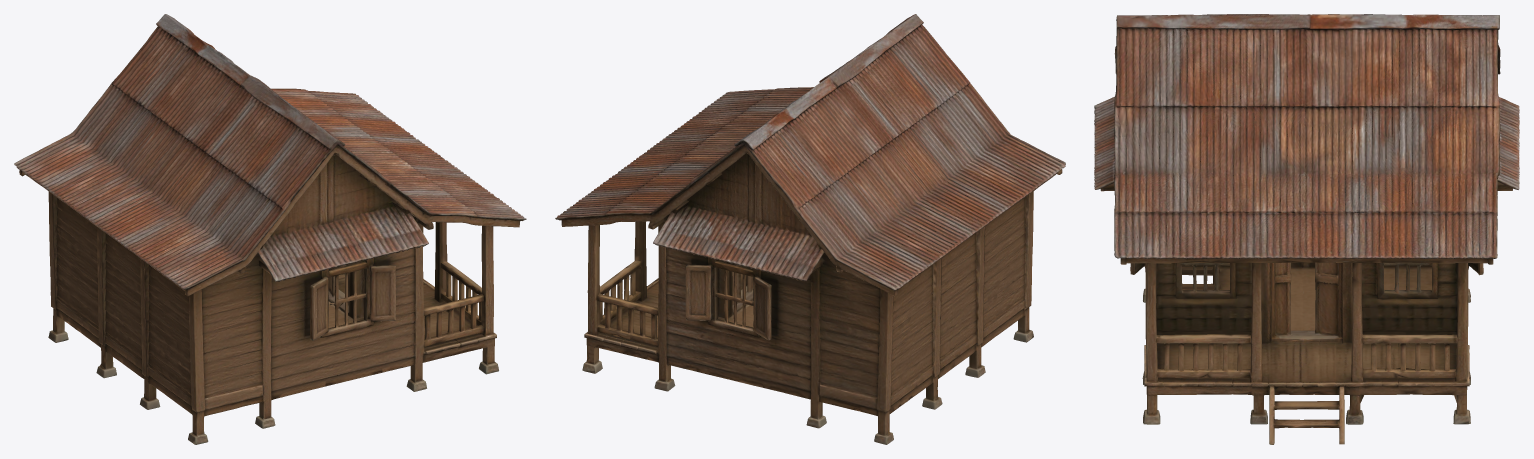
Rendered from old_rusty_roof_house_3d_model_free.glb.
3 renders of one model, left to right at view 1: azimuth 30°, elevation 25°; view 2: azimuth 150°, elevation 25°; view 3: azimuth 270°, elevation 25°, orthographic. The views are drawn at different scales.
Visible parts, largest first — view 1: tripo_node_8aec73a0-bbb3-4331-8a2e-32dcac36dc90_0; view 2: tripo_node_8aec73a0-bbb3-4331-8a2e-32dcac36dc90_0; view 3: tripo_node_8aec73a0-bbb3-4331-8a2e-32dcac36dc90_0.
Part boxes in pixels (x1=…): tripo_node_8aec73a0-bbb3-4331-8a2e-32dcac36dc90_0: x1=14, y1=14, x2=526, y2=444; tripo_node_8aec73a0-bbb3-4331-8a2e-32dcac36dc90_0: x1=555, y1=14, x2=1065, y2=444; tripo_node_8aec73a0-bbb3-4331-8a2e-32dcac36dc90_0: x1=1094, y1=14, x2=1519, y2=444.
Size of the model in its own units: 1 by 0.7472 by 0.9103.
Materials: 1 (1 with a texture image).
